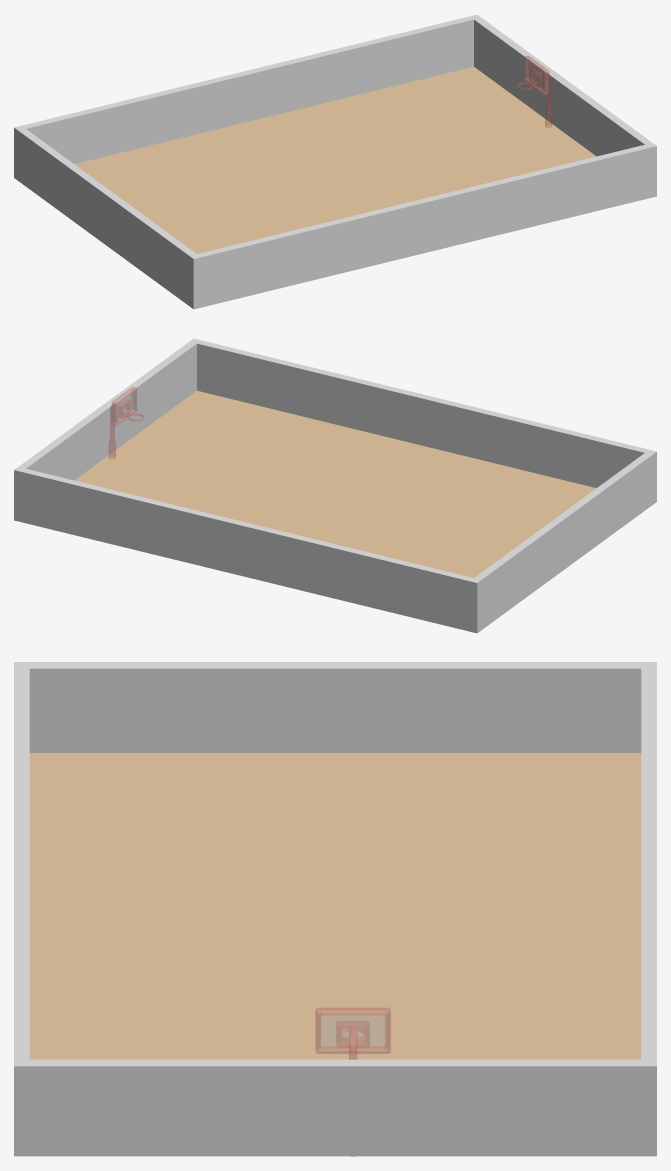
Rendered from ground_pota.fbx.
3 renders of one model, top to bottom at view 1: azimuth 30°, elevation 25°; view 2: azimuth 150°, elevation 25°; view 3: azimuth 270°, elevation 25°, orthographic. The views are drawn at different scales.
Visible parts, largest first — view 1: Ground, pota; view 2: Ground, pota; view 3: Ground, pota.
Part boxes in pixels (x1,y1,x2,y2): Ground: (14,14,656,309); pota: (517,56,551,127); Ground: (14,338,656,633); pota: (109,387,144,459); Ground: (14,662,656,1156); pota: (315,1008,390,1156).
Size of the model in its own units: 11.92 by 1.88 by 8.01.
